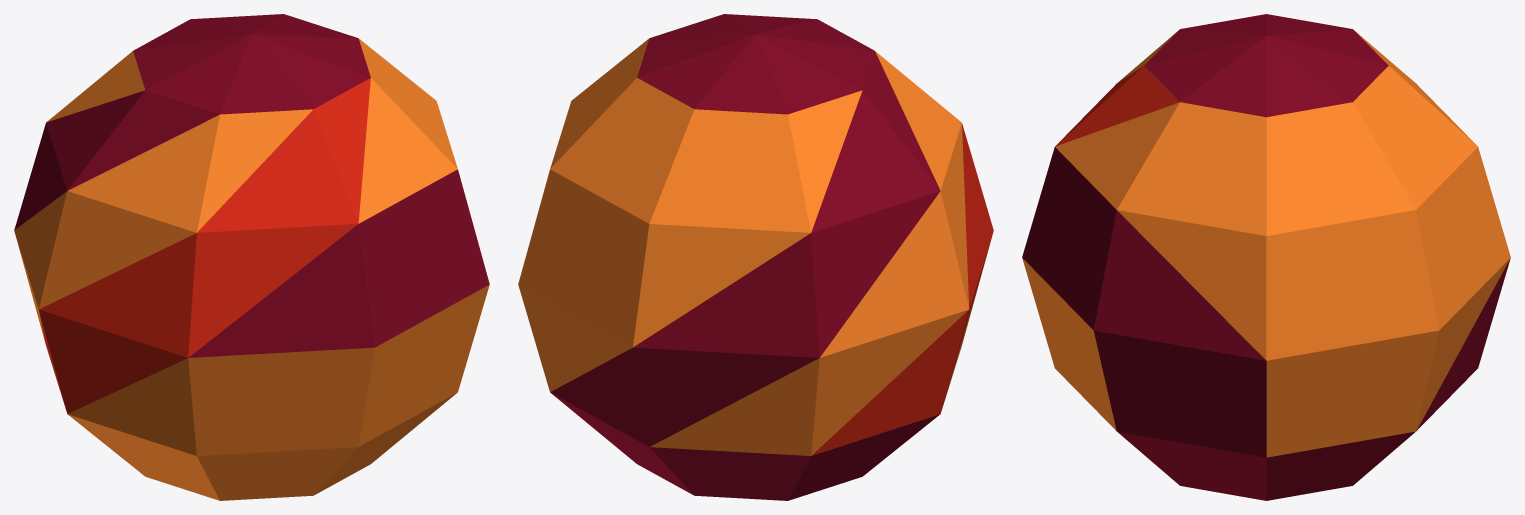
File: space_planet_b.gltf
3 views of the same model, side by side, from view 1: azimuth 30°, elevation 25°; view 2: azimuth 150°, elevation 25°; view 3: azimuth 270°, elevation 25° (orthographic).
Visible parts, largest first — view 1: space_planet_b; view 2: space_planet_b; view 3: space_planet_b.
Boxes of the visible parts, x1=… form: space_planet_b: x1=14, y1=14, x2=489, y2=500; space_planet_b: x1=518, y1=14, x2=993, y2=500; space_planet_b: x1=1022, y1=14, x2=1510, y2=500.
Bounding box in the file's own units: 10 × 10 × 10.
